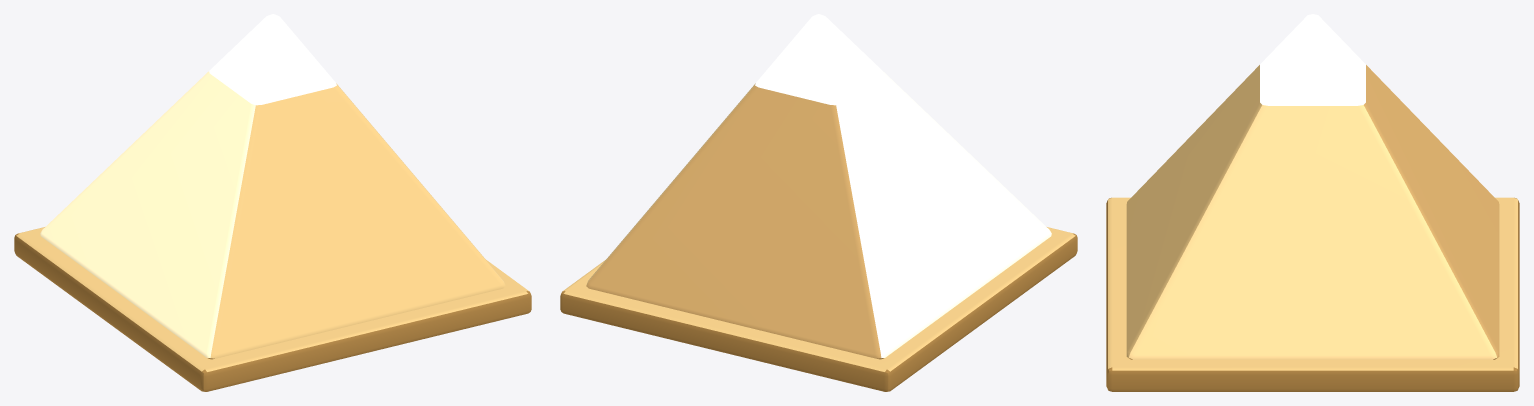
File: pyramid_cap_4.glb
3 renders of one model, left to right at view 1: azimuth 30°, elevation 25°; view 2: azimuth 150°, elevation 25°; view 3: azimuth 270°, elevation 25°, orthographic. The views are drawn at different scales.
Parts seen in each view (by area): view 1: cap, cap_plinth; view 2: cap, cap_plinth; view 3: cap, cap_plinth.
Boxes of the visible parts, x1=… form: cap: x1=40, y1=14, x2=505, y2=359; cap_plinth: x1=14, y1=227, x2=531, y2=391; cap: x1=586, y1=14, x2=1051, y2=359; cap_plinth: x1=560, y1=227, x2=1077, y2=391; cap: x1=1126, y1=14, x2=1499, y2=359; cap_plinth: x1=1106, y1=197, x2=1519, y2=391.
Bounding box in the file's own units: 12.2 × 9.54 × 12.2.
